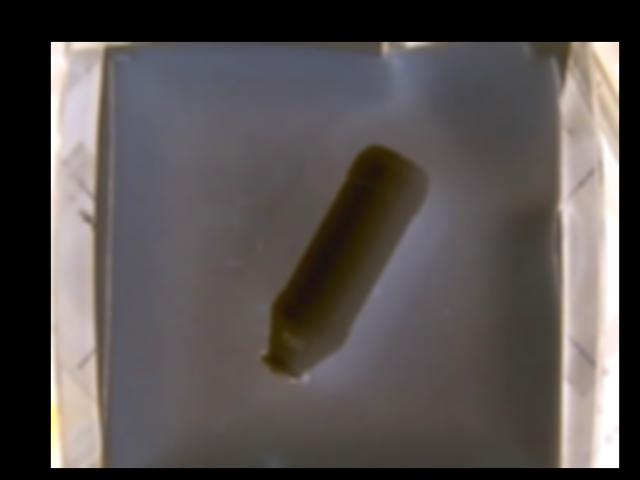Bottle: (263, 143, 428, 381)
